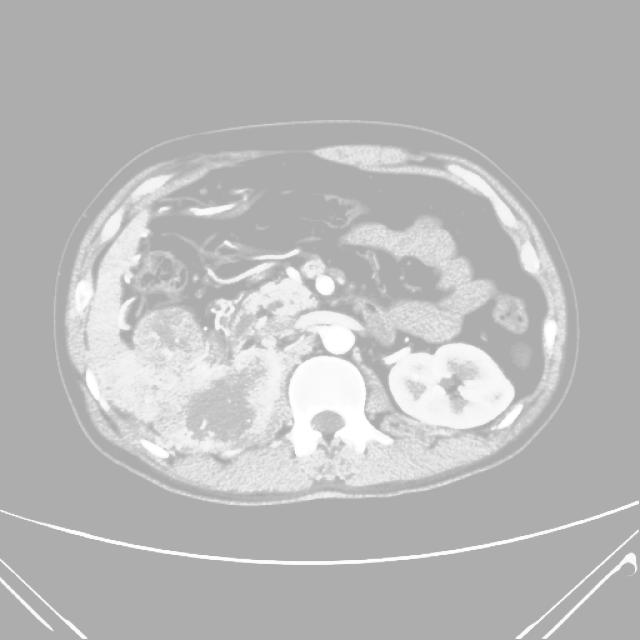TUMOR: (106, 186, 571, 446)
